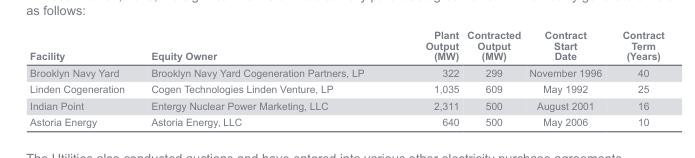table: (29, 29, 663, 127)
table column: (137, 29, 394, 127), (29, 29, 137, 127), (524, 29, 611, 127), (394, 29, 462, 127), (462, 29, 524, 127), (611, 29, 663, 127)
table column header: (29, 29, 663, 63)
table row: (29, 29, 663, 63), (29, 63, 663, 80), (29, 96, 663, 113), (29, 80, 663, 96), (29, 113, 663, 127)
